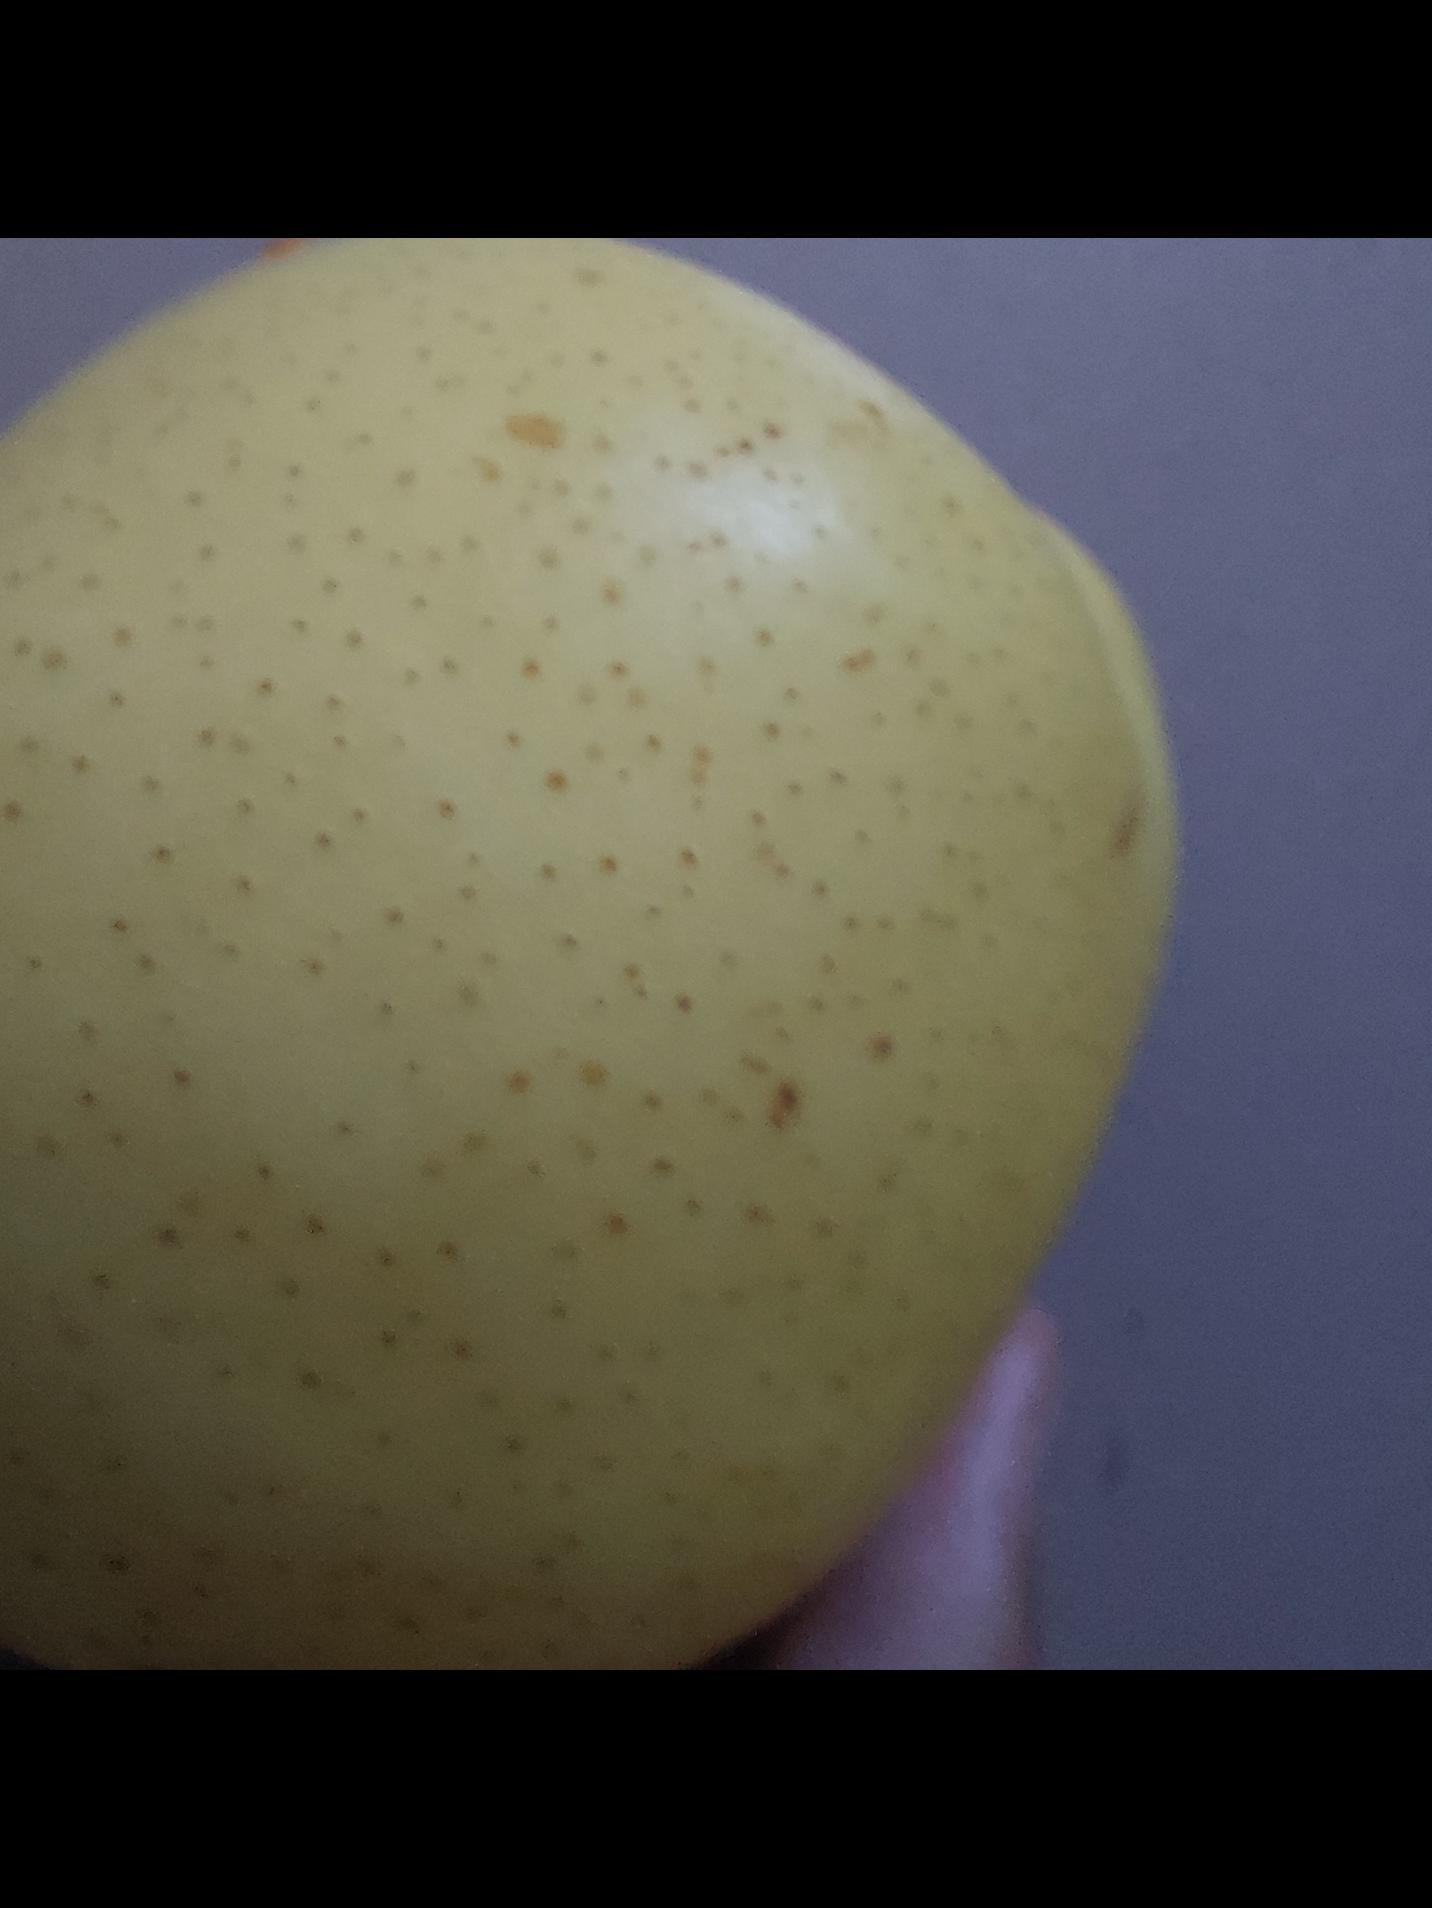Good Pear: (0, 238, 1188, 1670)
